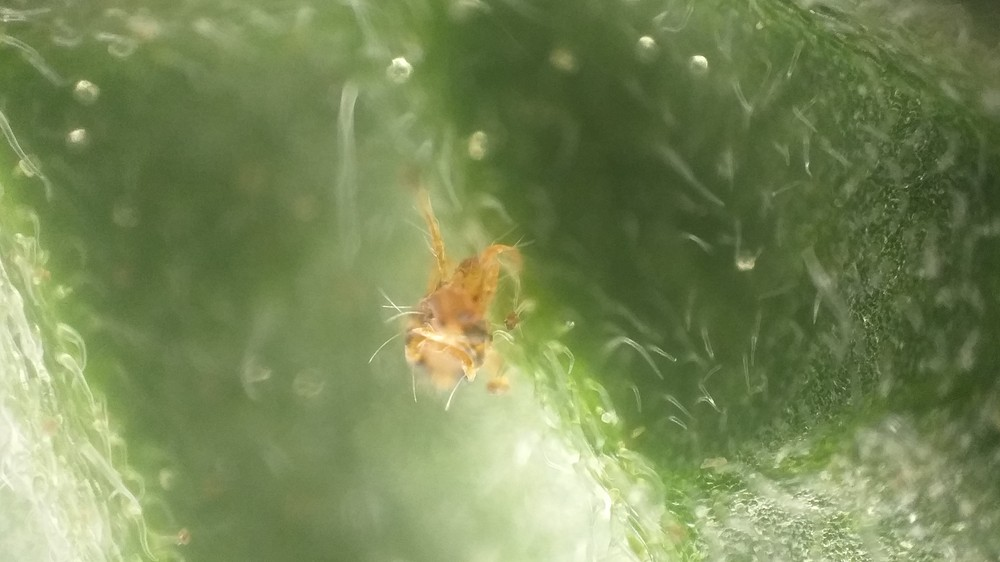Aracnido Rojo: (351, 183, 522, 420)
